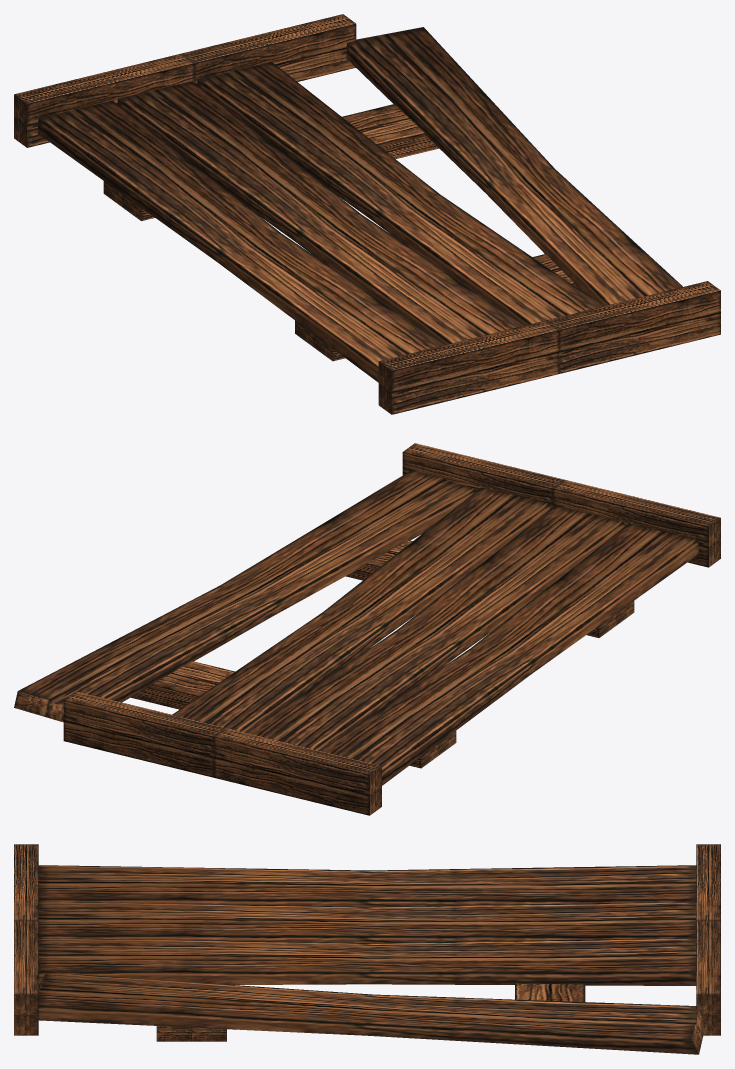
Rendered from RM_FLOATING_PLATFORM02.fbx.
3 renders of one model, top to bottom at view 1: azimuth 30°, elevation 25°; view 2: azimuth 150°, elevation 25°; view 3: azimuth 270°, elevation 25°, orthographic. The views are drawn at different scales.
Parts seen in each view (by area): view 1: RM_FLOATING_PLATFORM02; view 2: RM_FLOATING_PLATFORM02; view 3: RM_FLOATING_PLATFORM02.
Boxes of the visible parts, x1=… form: RM_FLOATING_PLATFORM02: x1=14, y1=14, x2=720, y2=414; RM_FLOATING_PLATFORM02: x1=14, y1=443, x2=720, y2=815; RM_FLOATING_PLATFORM02: x1=14, y1=844, x2=720, y2=1054.
Size of the model in its own units: 21578 by 2635 by 35801.
1 material, 1 textured.
